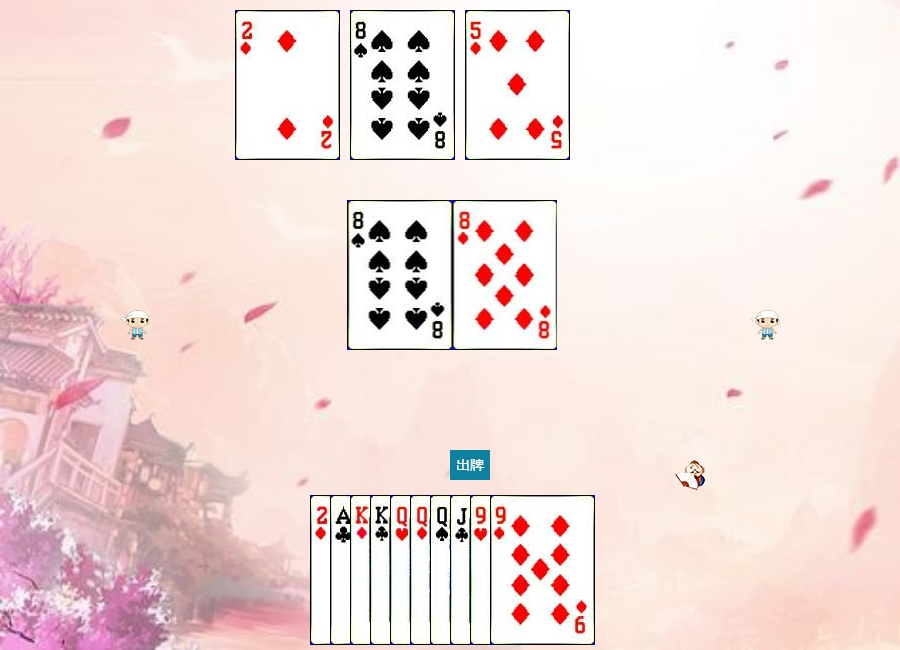11~2: (450, 495, 555, 645)
12~1: (410, 495, 515, 645)
12~3: (390, 495, 495, 645)
12~4: (430, 495, 535, 645)
13~1: (350, 495, 455, 645)
13~2: (370, 495, 475, 645)
14~2: (330, 495, 435, 645)
15~1: (235, 10, 340, 160), (310, 495, 415, 645)
5~1: (465, 10, 570, 160)
8~1: (453, 200, 558, 350)
8~4: (350, 10, 455, 160), (348, 200, 453, 350)
9~1: (490, 495, 595, 645)
9~3: (470, 495, 575, 645)
